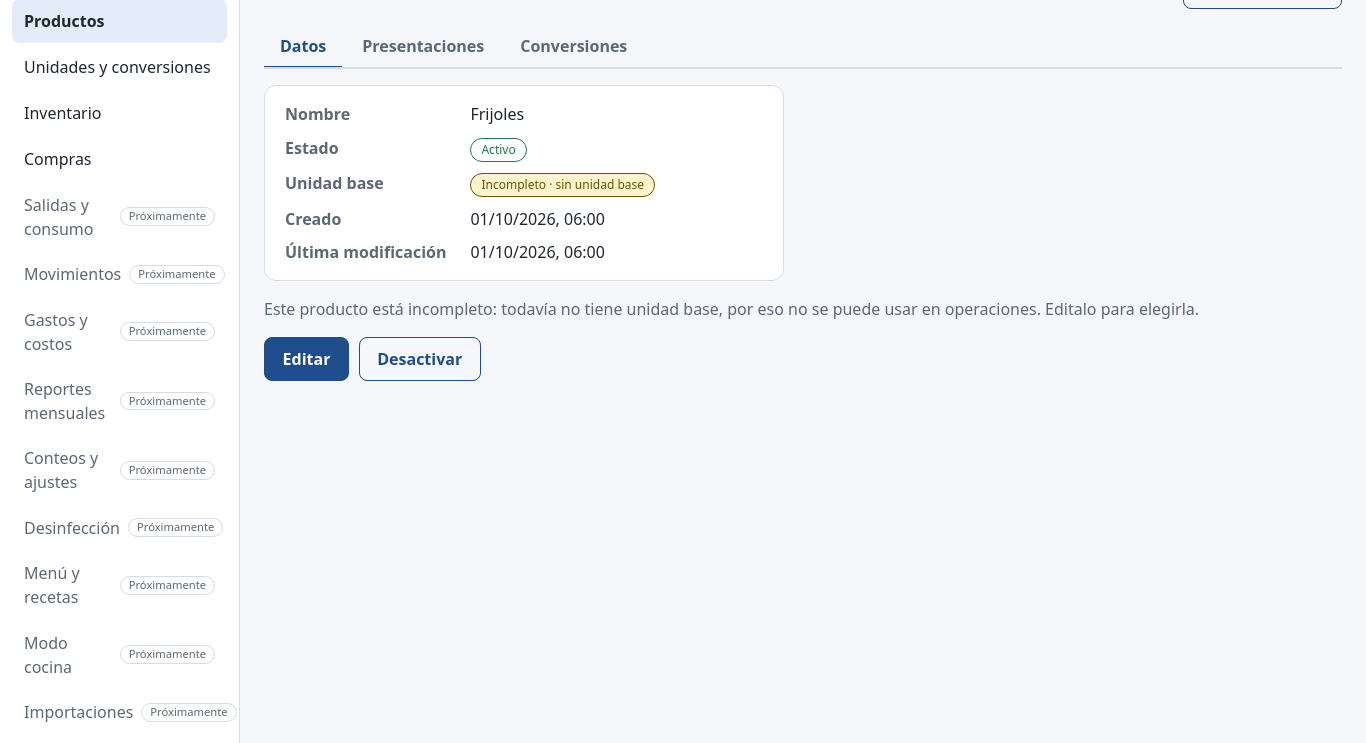
Scenario: productos incompletos (sin unidad base) › el detalle avisa que está incompleto y se completa desde Editar
(page scrolled)
Expected: the text "Incompleto · sin unidad base" is shown, [470,173,655,197]
Expected: the text "no se puede usar en operaciones" is shown, [264,298,1199,320]
Step 1. Click the link "Editar" → x=306, y=359, box [264,337,349,381]
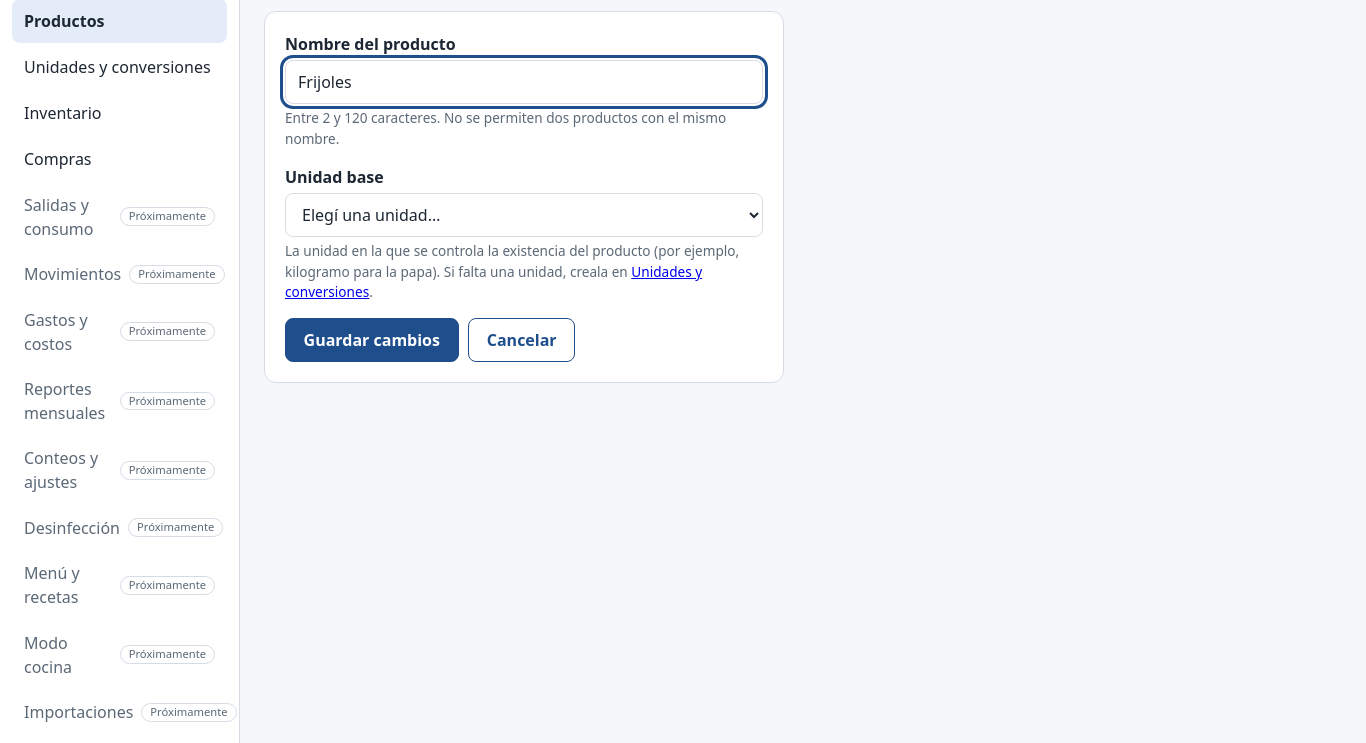
Now the field labelled "Nombre del producto" holds "Frijoles", box [285,60,763,104]
Step 2. Click the button "Guardar cambios" → x=372, y=340, box [285,318,459,362]
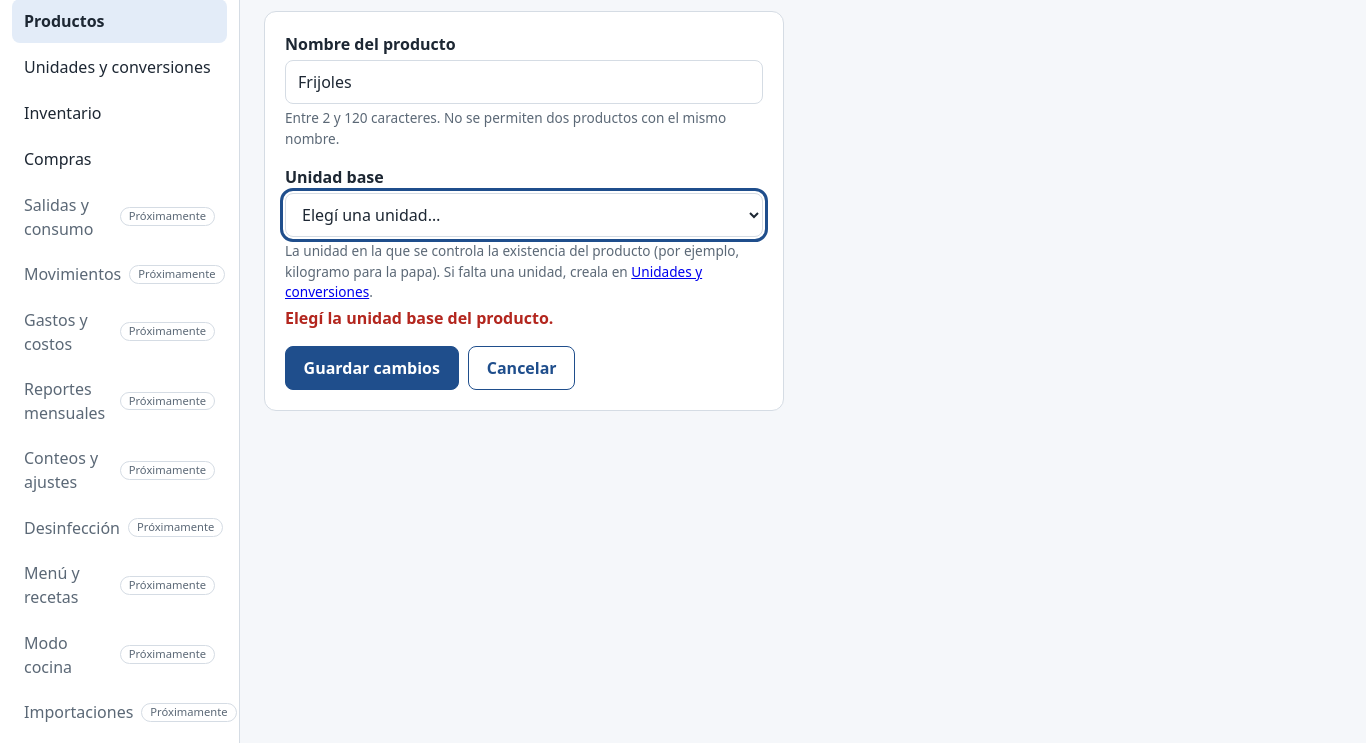
Now the message reads "Elegí la unidad base del producto.", box [285,307,553,329]
Step 3. Select "Kilogramo (kg)" in the dropdown labelled "Unidad base" → x=524, y=215, box [285,193,763,237]
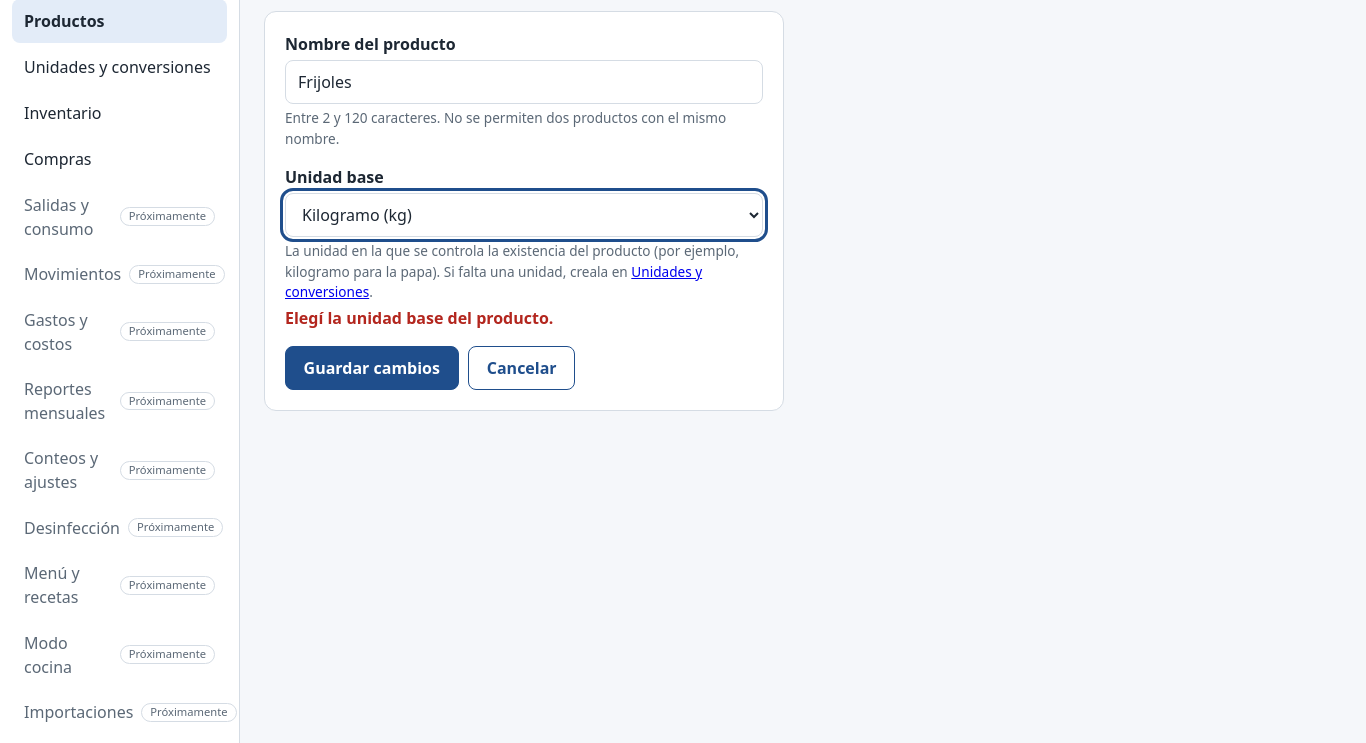
Step 4. Click the button "Guardar cambios" → x=372, y=368, box [285,346,459,390]
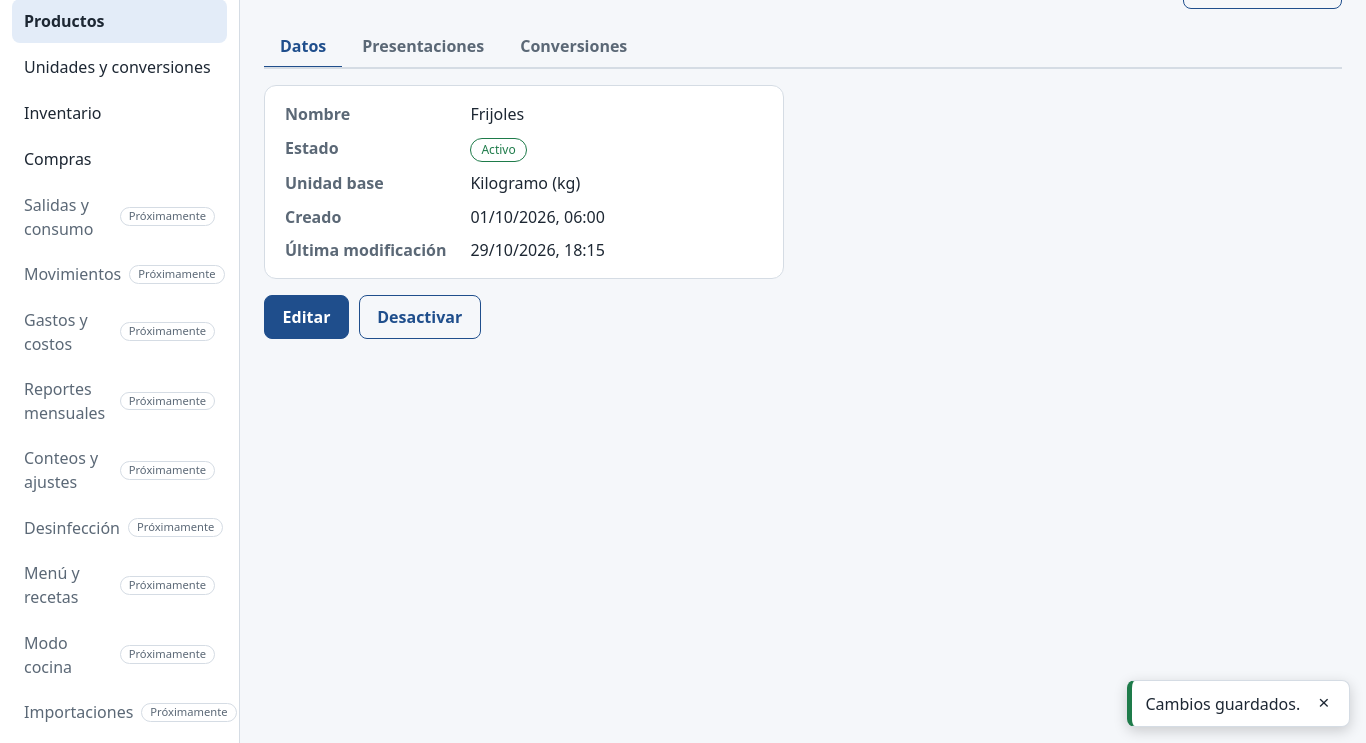
Expected: the text "Incompleto" is not shown
Now the text "Kilogramo (kg)" is shown, box [470,172,580,194]
